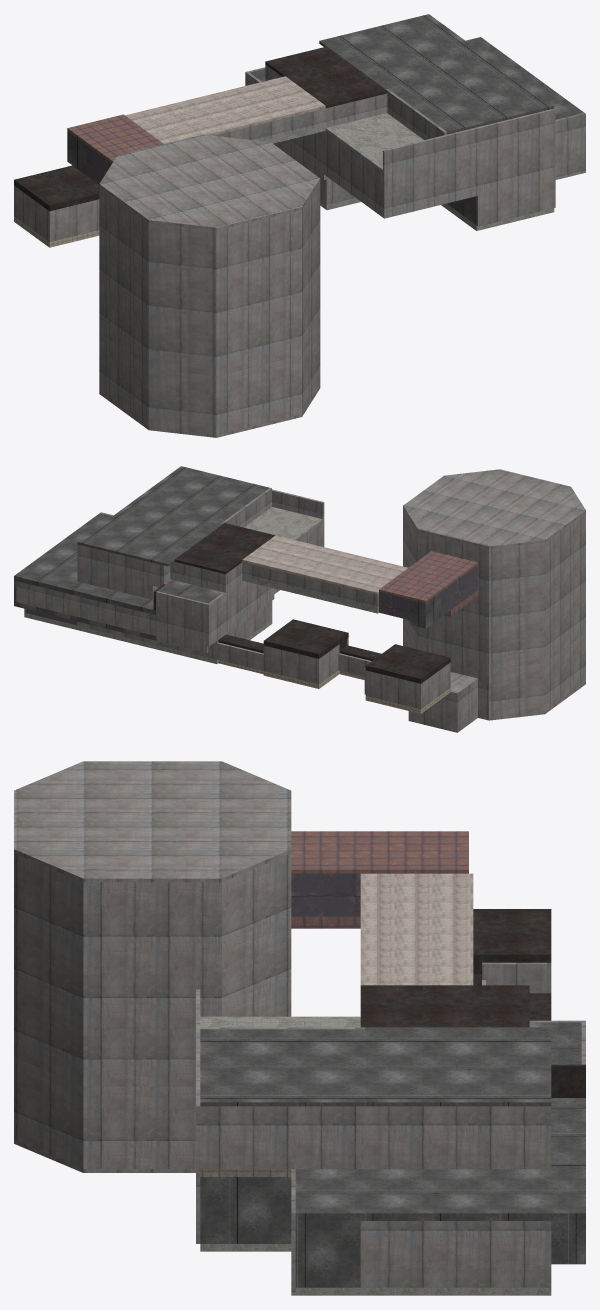
3 views of the same model, one above another, from view 1: azimuth 30°, elevation 25°; view 2: azimuth 150°, elevation 25°; view 3: azimuth 270°, elevation 25° (orthographic). The views are drawn at different scales.
Parts seen in each view (by area): view 1: entity0_brush177, entity0_brush179, entity0_brush180, entity0_brush181, entity0_brush120, entity0_brush10, entity0_brush176, entity0_brush123, entity0_brush211, entity0_brush72, entity0_brush210, entity0_brush175 (+21 smaller); view 2: entity0_brush177, entity0_brush182, entity0_brush120, entity0_brush181, entity0_brush10, entity0_brush123, entity0_brush186, entity0_brush162, entity0_brush122, entity0_brush208, entity0_brush175, entity0_brush27 (+41 smaller); view 3: entity0_brush177, entity0_brush183, entity0_brush121, entity0_brush120, entity0_brush185, entity0_brush154, entity0_brush10, entity0_brush123, entity0_brush152, entity0_brush184, entity0_brush213, entity0_brush27 (+18 smaller).
Part boxes in pixels (x1=…): entity0_brush177: x1=99, y1=134, x2=320, y2=230; entity0_brush179: x1=216, y1=209, x2=301, y2=376; entity0_brush180: x1=148, y1=223, x2=216, y2=376; entity0_brush181: x1=99, y1=187, x2=148, y2=368; entity0_brush120: x1=319, y1=14, x2=494, y2=89; entity0_brush10: x1=125, y1=76, x2=325, y2=143; entity0_brush176: x1=383, y1=127, x2=477, y2=218; entity0_brush123: x1=388, y1=62, x2=554, y2=134; entity0_brush211: x1=216, y1=355, x2=301, y2=434; entity0_brush72: x1=476, y1=154, x2=555, y2=226; entity0_brush210: x1=148, y1=368, x2=216, y2=434; entity0_brush175: x1=265, y1=46, x2=387, y2=108; entity0_brush177: x1=403, y1=469, x2=585, y2=548; entity0_brush182: x1=489, y1=542, x2=544, y2=669; entity0_brush120: x1=77, y1=501, x2=222, y2=566; entity0_brush181: x1=545, y1=513, x2=585, y2=662; entity0_brush10: x1=242, y1=535, x2=408, y2=594; entity0_brush123: x1=133, y1=466, x2=269, y2=523; entity0_brush186: x1=418, y1=595, x2=488, y2=669; entity0_brush162: x1=16, y1=581, x2=155, y2=635; entity0_brush122: x1=79, y1=545, x2=153, y2=599; entity0_brush208: x1=489, y1=663, x2=544, y2=718; entity0_brush175: x1=174, y1=523, x2=275, y2=574; entity0_brush27: x1=379, y1=551, x2=477, y2=602; entity0_brush177: x1=14, y1=761, x2=291, y2=882; entity0_brush183: x1=83, y1=882, x2=221, y2=1086; entity0_brush121: x1=295, y1=1106, x2=551, y2=1169; entity0_brush120: x1=365, y1=1027, x2=551, y2=1106; entity0_brush185: x1=14, y1=853, x2=83, y2=1086; entity0_brush154: x1=295, y1=1169, x2=551, y2=1220; entity0_brush10: x1=360, y1=873, x2=473, y2=985; entity0_brush123: x1=200, y1=1029, x2=364, y2=1106; entity0_brush152: x1=360, y1=1221, x2=551, y2=1287; entity0_brush184: x1=222, y1=853, x2=291, y2=1016; entity0_brush213: x1=83, y1=1086, x2=195, y2=1168; entity0_brush27: x1=291, y1=831, x2=468, y2=873.
Bounding box in the file's own units: 3056 × 1200 × 2112.
Materials: 9 (9 with a texture image).
